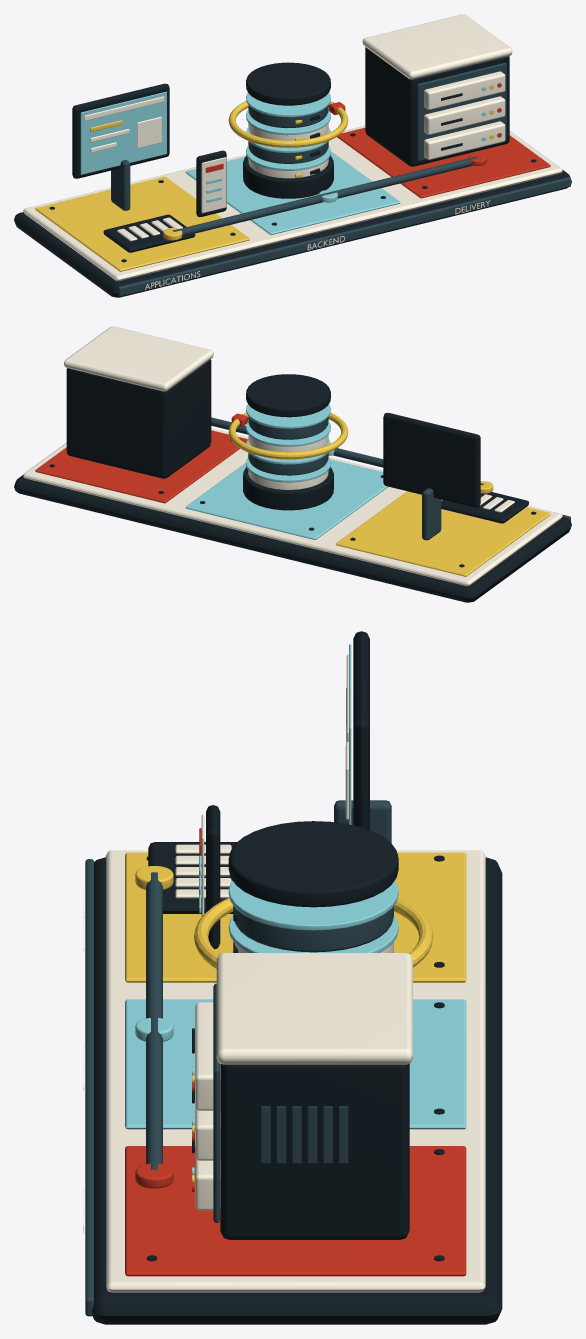
File: about-system.glb
The picture shows the model from 3 angles, top to bottom: view 1: azimuth 30°, elevation 25°; view 2: azimuth 150°, elevation 25°; view 3: azimuth 270°, elevation 25°; orthographic projection. The views are drawn at different scales.
Parts seen in each view (by area): view 1: Inset work deck, Inset bay / -2.9, Deployment rack, Rack top, Continuous chassis, Inset bay / 0, Inset bay / 2.9, Front title rail, Display glass, Core cap, Shared signal conduit, Rack inset (+20 smaller); view 2: Deployment rack, Continuous chassis, Inset work deck, Inset bay / -2.9, Display frame, Inset bay / 0, Rack top, Inset bay / 2.9, Core cap, Core foot, Service ring, Input console (+10 smaller); view 3: Deployment rack, Inset work deck, Continuous chassis, Inset bay / 2.9, Rack top, Inset bay / 0, Inset bay / -2.9, Core cap, Shared signal conduit, Front title rail, Data seam 3, Data layer 3 (+10 smaller).
Part boxes in pixels (bbox=[...]): Inset work deck: bbox=[23, 125, 562, 281]; Inset bay / -2.9: bbox=[35, 176, 249, 271]; Deployment rack: bbox=[365, 47, 509, 166]; Rack top: bbox=[362, 14, 512, 79]; Continuous chassis: bbox=[14, 169, 571, 297]; Inset bay / 0: bbox=[185, 151, 400, 234]; Inset bay / 2.9: bbox=[337, 127, 550, 198]; Front title rail: bbox=[118, 177, 570, 296]; Display glass: bbox=[80, 91, 166, 174]; Core cap: bbox=[246, 62, 330, 105]; Shared signal conduit: bbox=[172, 156, 478, 236]; Rack inset: bbox=[417, 63, 506, 161]; Deployment rack: bbox=[66, 359, 211, 478]; Continuous chassis: bbox=[14, 474, 571, 602]; Inset work deck: bbox=[23, 428, 562, 586]; Inset bay / -2.9: bbox=[336, 491, 550, 576]; Display frame: bbox=[383, 412, 480, 507]; Inset bay / 0: bbox=[185, 459, 388, 539]; Rack top: bbox=[64, 326, 213, 391]; Inset bay / 2.9: bbox=[35, 430, 247, 503]; Core cap: bbox=[246, 374, 330, 417]; Core foot: bbox=[243, 467, 333, 510]; Service ring: bbox=[228, 412, 348, 459]; Input console: bbox=[441, 492, 528, 523]; Deployment rack: bbox=[220, 1063, 409, 1239]; Inset work deck: bbox=[106, 850, 485, 1292]; Continuous chassis: bbox=[91, 857, 502, 1324]; Inset bay / 2.9: bbox=[125, 1146, 466, 1276]; Rack top: bbox=[216, 953, 412, 1064]; Inset bay / 0: bbox=[125, 999, 466, 1129]; Inset bay / -2.9: bbox=[125, 852, 466, 982]; Core cap: bbox=[228, 821, 398, 907]; Shared signal conduit: bbox=[146, 872, 162, 1169]; Front title rail: bbox=[85, 859, 94, 1316]; Data seam 3: bbox=[228, 880, 398, 930]; Data layer 3: bbox=[234, 906, 393, 952].
Size of the model in its own units: 8.9 by 2.58 by 3.5.
